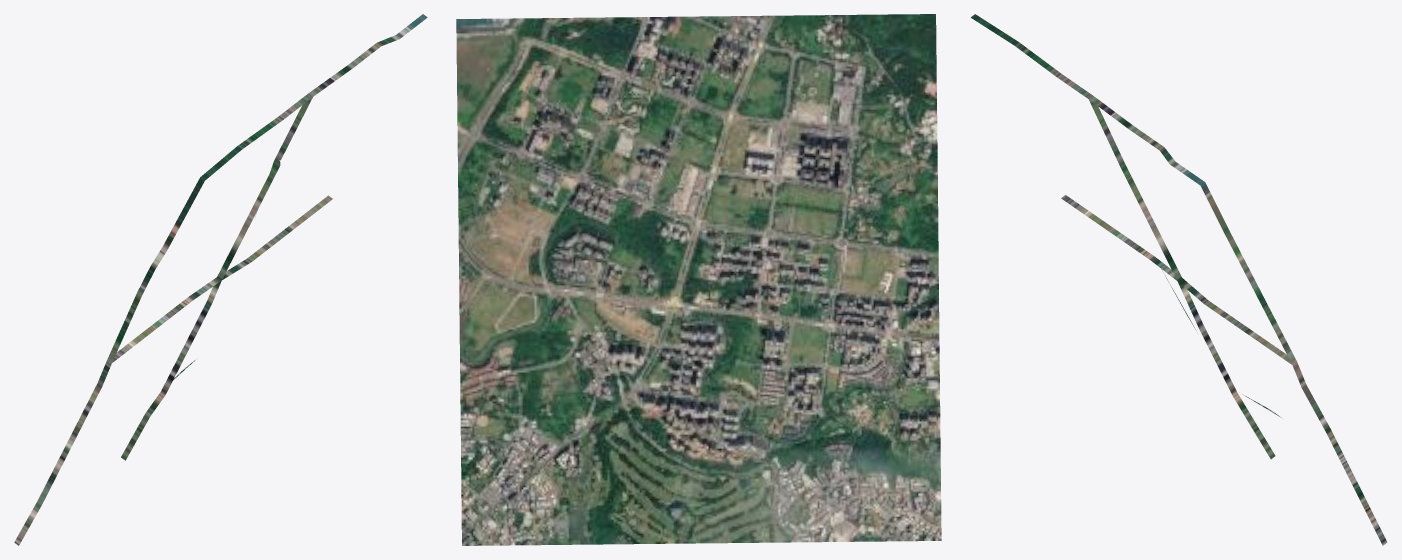
3 renders of one model, left to right at view 1: azimuth 30°, elevation 25°; view 2: azimuth 150°, elevation 25°; view 3: azimuth 270°, elevation 25°, orthographic. The views are drawn at different scales.
Size of the model in its own units: 2465 by 2234 by 2041.
Materials: 1 (1 with a texture image).
